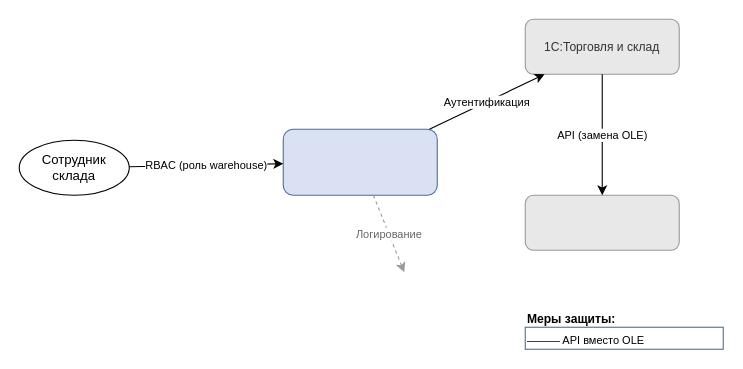
This 743x369 diagram has some shape labels left out. The shapes that lost their labels are listed below. From the top down, each one's centre as x and y in pixels, then its label:
At pixel 359 161: "Учёт ТМЦ".
At pixel 601 222: "1С:Бухгалтерия".
